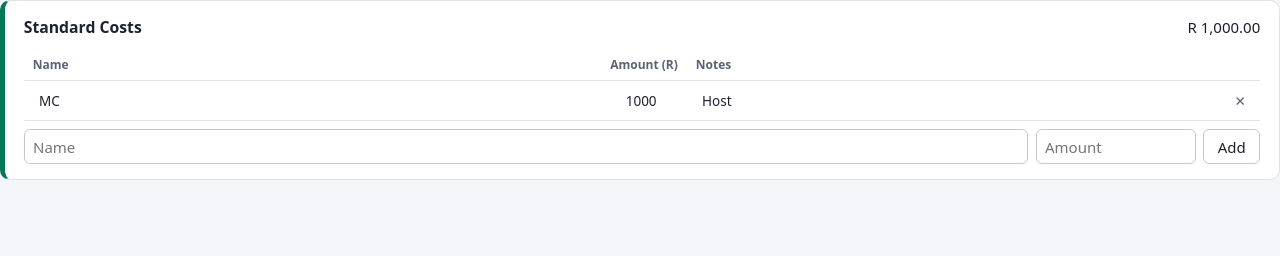
it: editing a line › refuses an empty name
This screenshot has width=1280, height=256.
Clear the field named "Name" at (290, 100), box [30,84,551,116]
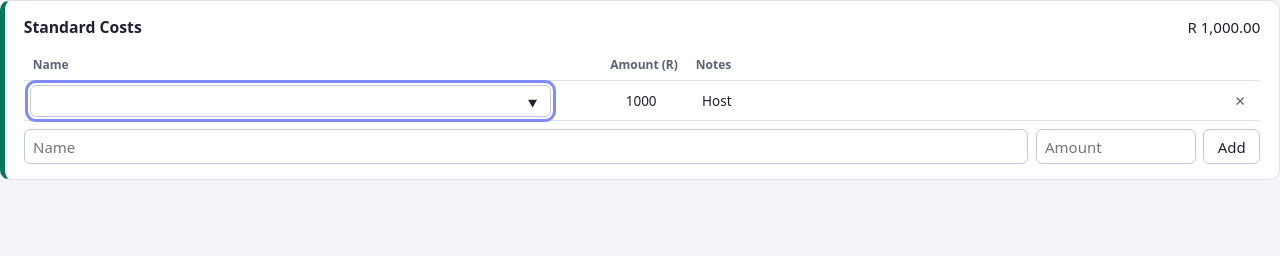
Press Tab
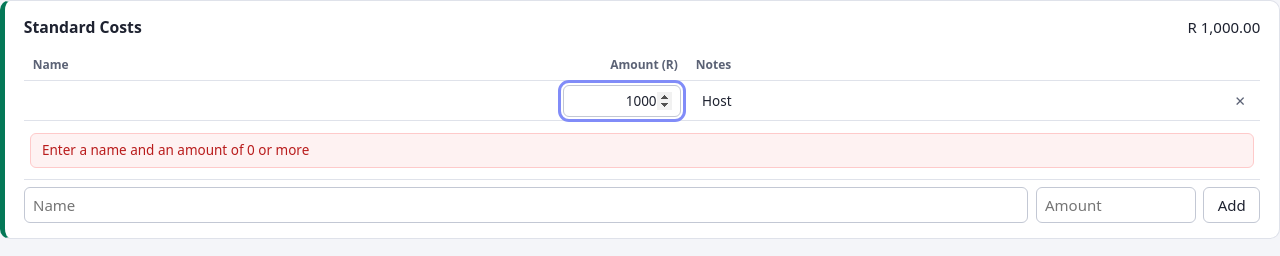
Check: the message reads "Enter a name and an amount of 0 or more", box [42,141,309,159]
